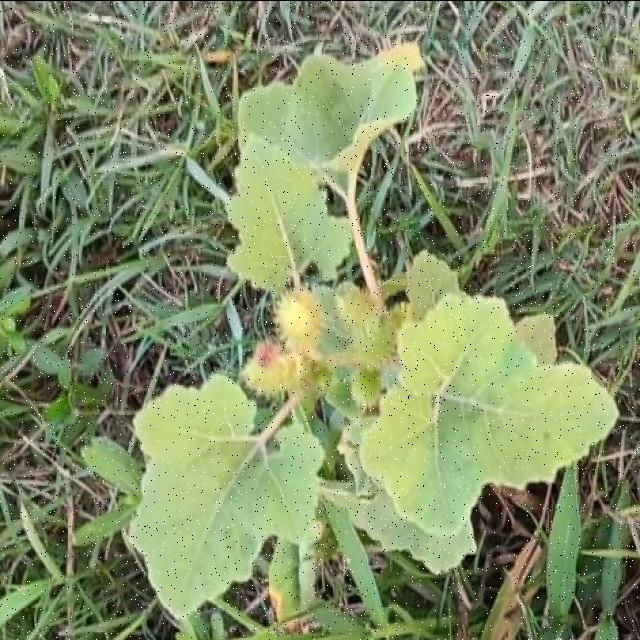weed: (129, 41, 620, 617)
